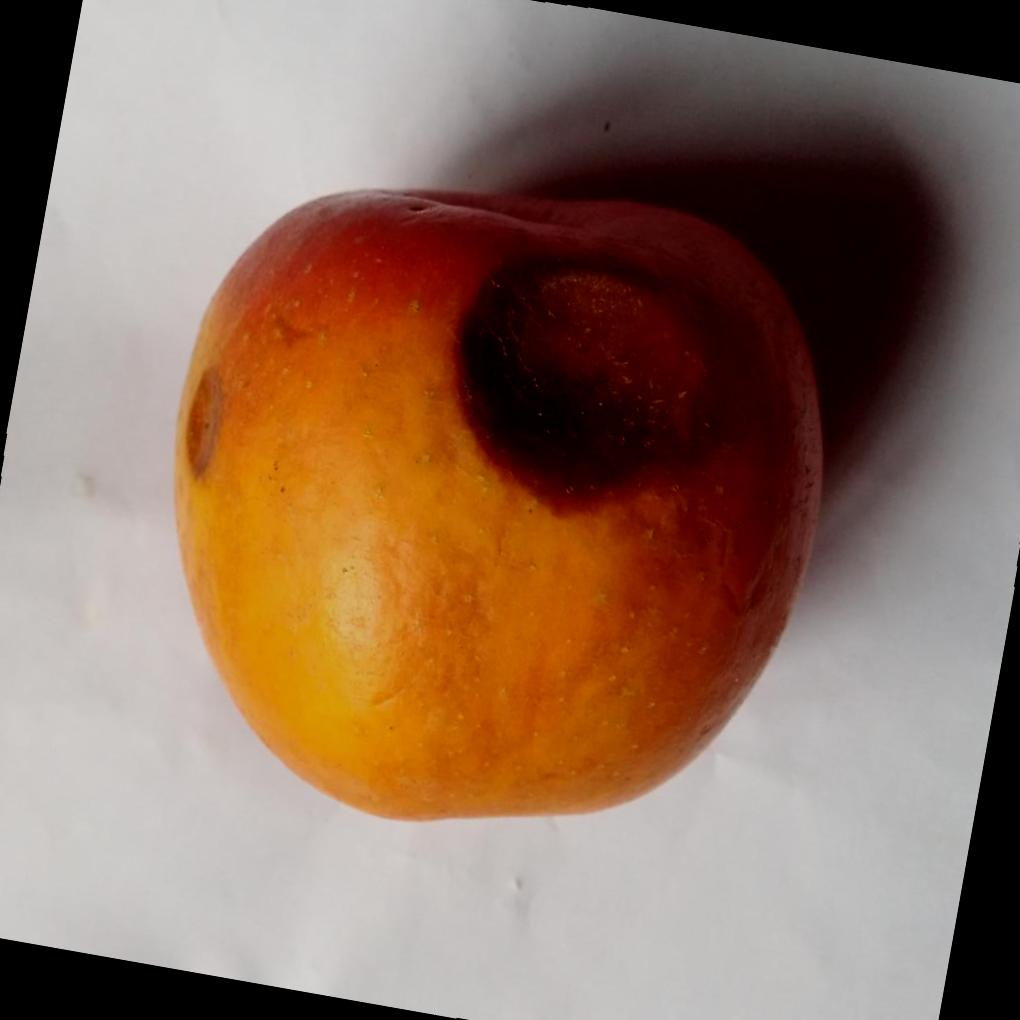FreshOrange: (174, 185, 828, 822)
